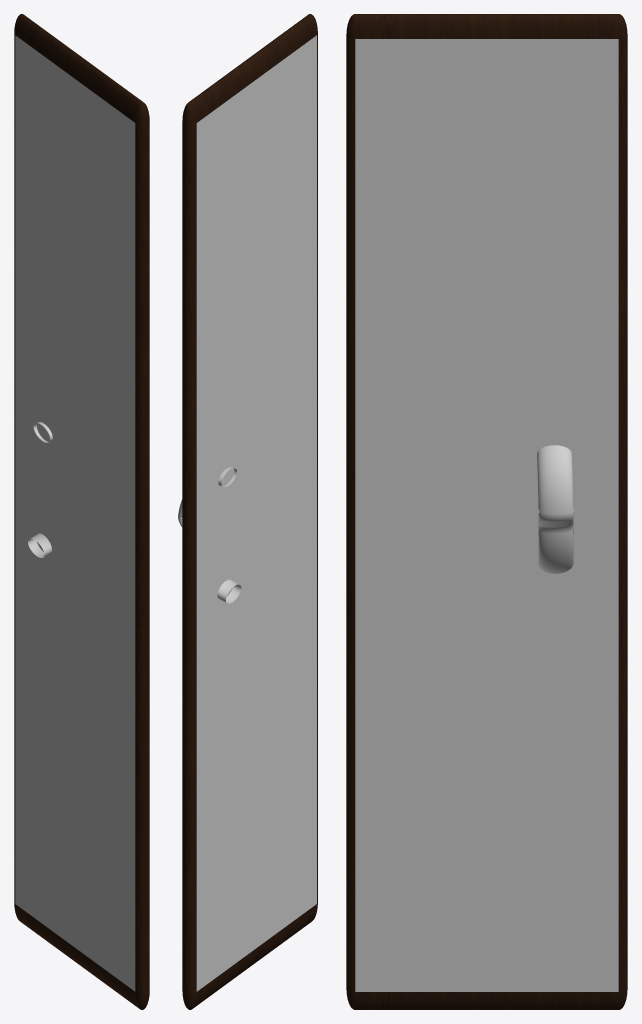
The model's file is Med Cab Door (Left).fbx.
The picture shows the model from 3 angles, left to right: view 1: azimuth 30°, elevation 25°; view 2: azimuth 150°, elevation 25°; view 3: azimuth 270°, elevation 25°; orthographic projection. The views are drawn at different scales.
Parts seen in each view (by area): view 1: Door_2, Door_1, Handle; view 2: Door_2, Door_1, Handle; view 3: Door_2, Door_1, Handle.
Part boxes in pixels (x1=…): Door_2: x1=15, y1=35, x2=135, y2=991; Door_1: x1=14, y1=14, x2=149, y2=1009; Handle: x1=28, y1=422, x2=52, y2=557; Door_2: x1=196, y1=35, x2=316, y2=991; Door_1: x1=182, y1=14, x2=317, y2=1009; Handle: x1=178, y1=467, x2=241, y2=603; Door_2: x1=355, y1=39, x2=618, y2=991; Door_1: x1=346, y1=14, x2=627, y2=1009; Handle: x1=537, y1=445, x2=573, y2=573.
Bounding box in the file's own units: 14.55 × 242 × 61.99.
